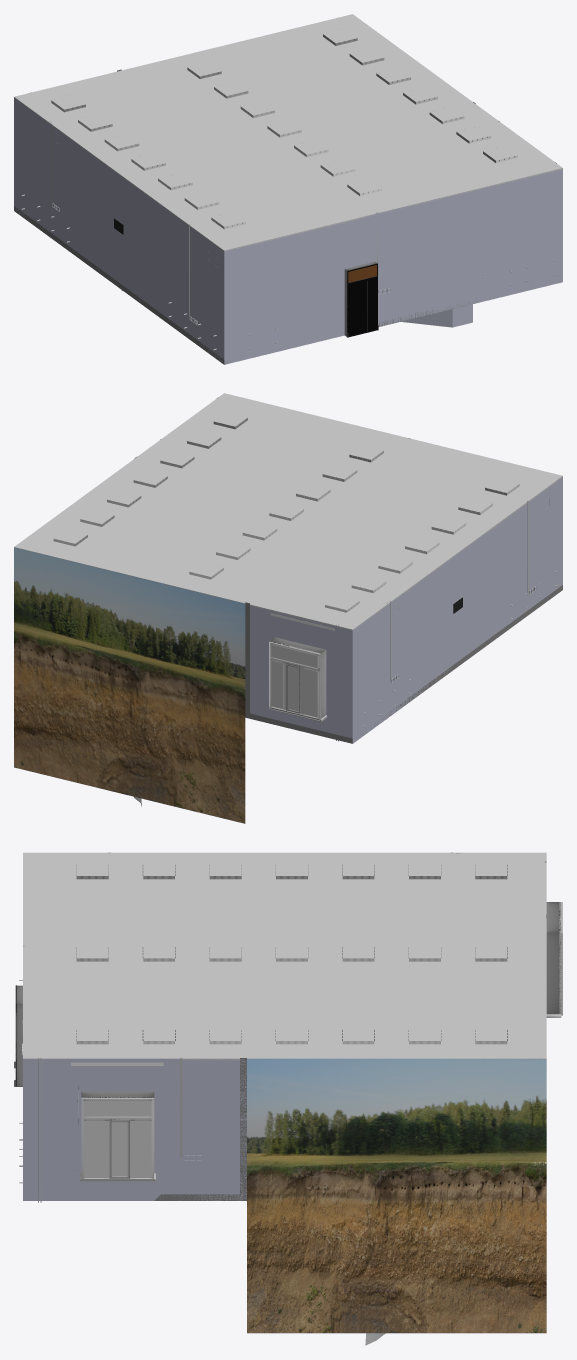
3 renders of one model, top to bottom at view 1: azimuth 30°, elevation 25°; view 2: azimuth 150°, elevation 25°; view 3: azimuth 270°, elevation 25°, orthographic. The views are drawn at different scales.
Parts seen in each view (by area): view 1: L3_wall, L3_wall.002, L3_wall.001; view 2: L3_wall, L3_wall.004, L3_window, L3_wall.002, L3_wall.001; view 3: L3_wall, L3_wall.004, L3_window, L3_wall.002, L3_wall.001.
Part boxes in pixels (x1,y1,x2,y2): L3_wall: (14,14,562,364); L3_wall.002: (14,69,490,364); L3_wall.001: (14,14,562,251); L3_wall: (15,393,562,743); L3_wall.004: (14,547,245,823); L3_window: (271,645,317,717); L3_wall.002: (134,456,562,743); L3_wall.001: (14,474,562,630); L3_wall: (15,852,562,1202); L3_wall.004: (247,1058,546,1333); L3_window: (84,1101,151,1177); L3_wall.002: (14,914,546,1200); L3_wall.001: (23,852,546,1060).
Size of the model in its own units: 1390 by 886 by 1504.
